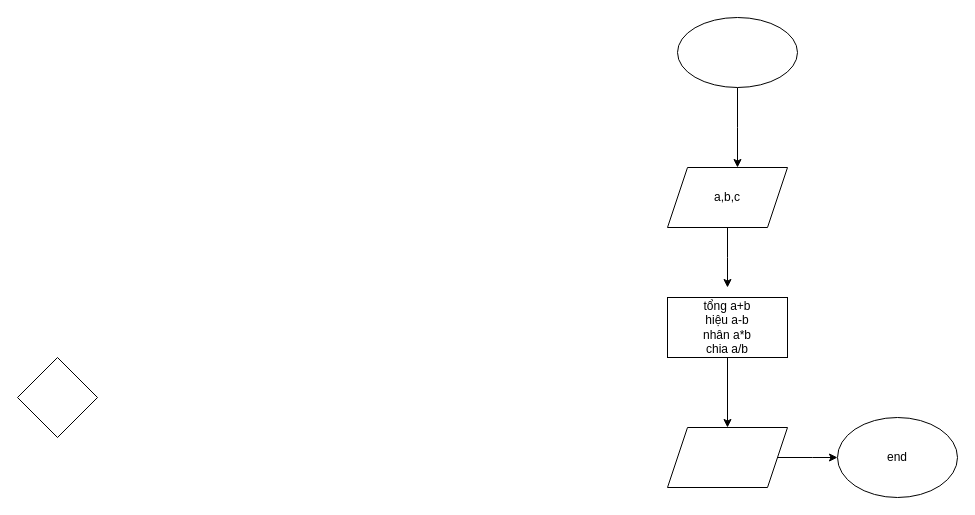
The diagram is 975 pixels wide and 515 high, and some of its shapes have lost their labels. Here are the shapes that lost their labels. From the top down, the box of each, then its label:
(676, 16, 798, 88): start
(666, 426, 788, 488): in tổng in hiệu in nhân in chia
